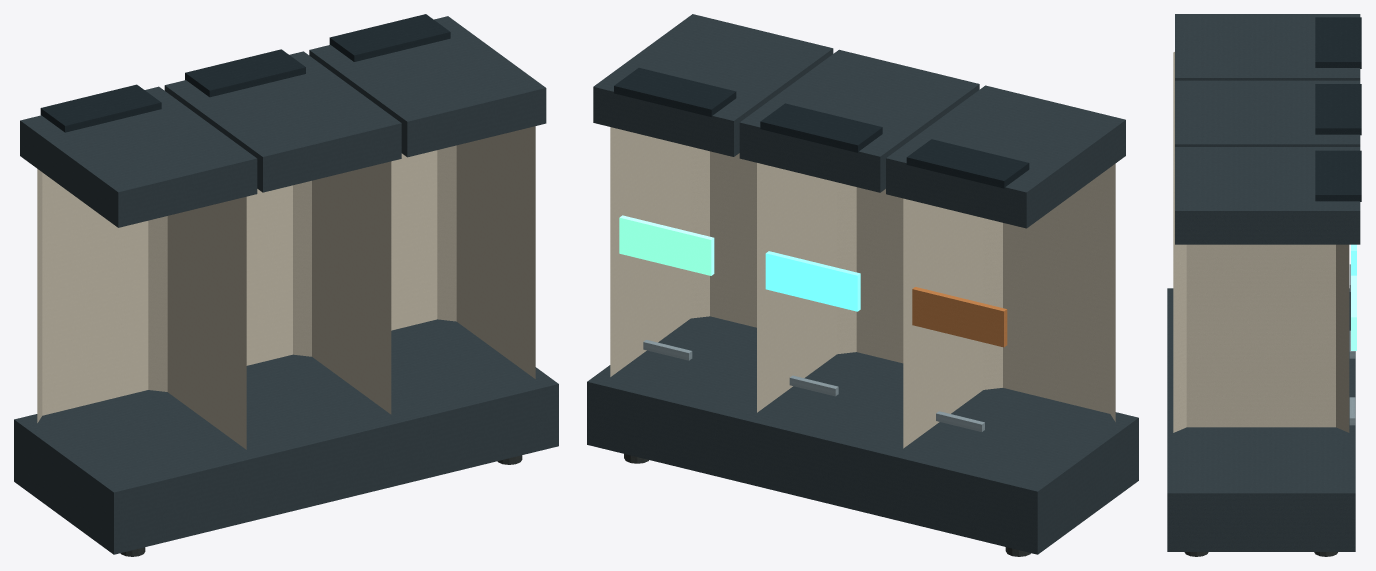
Rendered from waste_sorting_unit.glb.
3 views of the same model, side by side, from view 1: azimuth 30°, elevation 25°; view 2: azimuth 150°, elevation 25°; view 3: azimuth 270°, elevation 25° (orthographic). The views are drawn at different scales.
Parts seen in each view (by area): view 1: Waste_Compartments__cream, Base__graphite, Lid_Housings__graphite, Deposit_Hatch__carbon; view 2: Waste_Compartments__cream, Base__graphite, Lid_Housings__graphite, Deposit_Hatch__carbon, Stream_Labels__mint, Stream_Labels__amber, Stream_Labels__cyan, Canister_Handle__alloy; view 3: Lid_Housings__graphite, Waste_Compartments__cream, Base__graphite, Deposit_Hatch__carbon, Stream_Labels__mint, Canister_Handle__alloy.
Boxes of the visible parts, x1,y1,x2,y2 form: Waste_Compartments__cream: [37, 126, 535, 449]; Base__graphite: [14, 319, 558, 554]; Lid_Housings__graphite: [20, 16, 546, 227]; Deposit_Hatch__carbon: [40, 14, 450, 132]; Waste_Compartments__cream: [610, 127, 1115, 448]; Base__graphite: [587, 316, 1138, 554]; Lid_Housings__graphite: [593, 14, 1125, 228]; Deposit_Hatch__carbon: [614, 68, 1029, 188]; Stream_Labels__mint: [619, 215, 714, 275]; Stream_Labels__amber: [912, 287, 1007, 347]; Stream_Labels__cyan: [765, 251, 860, 311]; Canister_Handle__alloy: [643, 340, 984, 431]; Lid_Housings__graphite: [1175, 14, 1360, 244]; Waste_Compartments__cream: [1173, 52, 1349, 432]; Base__graphite: [1167, 288, 1355, 551]; Deposit_Hatch__carbon: [1315, 17, 1361, 201]; Stream_Labels__mint: [1351, 275, 1356, 350]; Canister_Handle__alloy: [1349, 264, 1355, 425].
Bounding box in the file's own units: 1.57 × 1.28 × 0.63.
9 materials, 9 textured.
